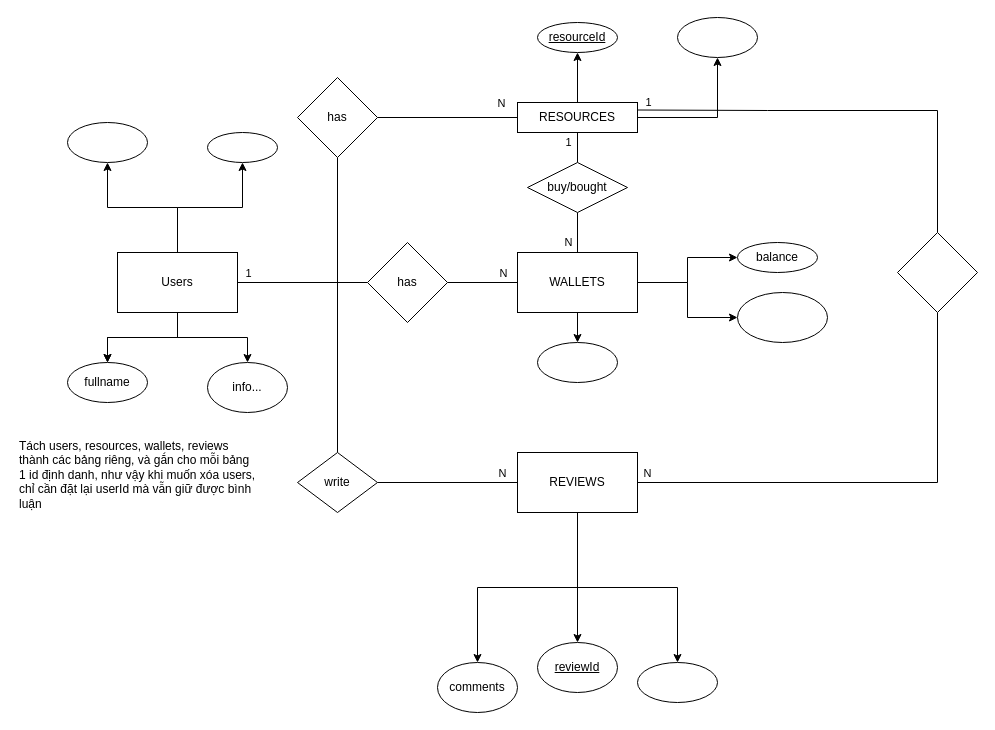
This 995x730 diagram has some shape labels left out. Here are the shapes that lost their labels. From the top down, the centre of each, then its label:
the point at 717,37: sources
the point at 107,142: userId
the point at 242,147: role
the point at 937,272: about
the point at 782,317: transaction history
the point at 577,362: walletId
the point at 677,682: rating
